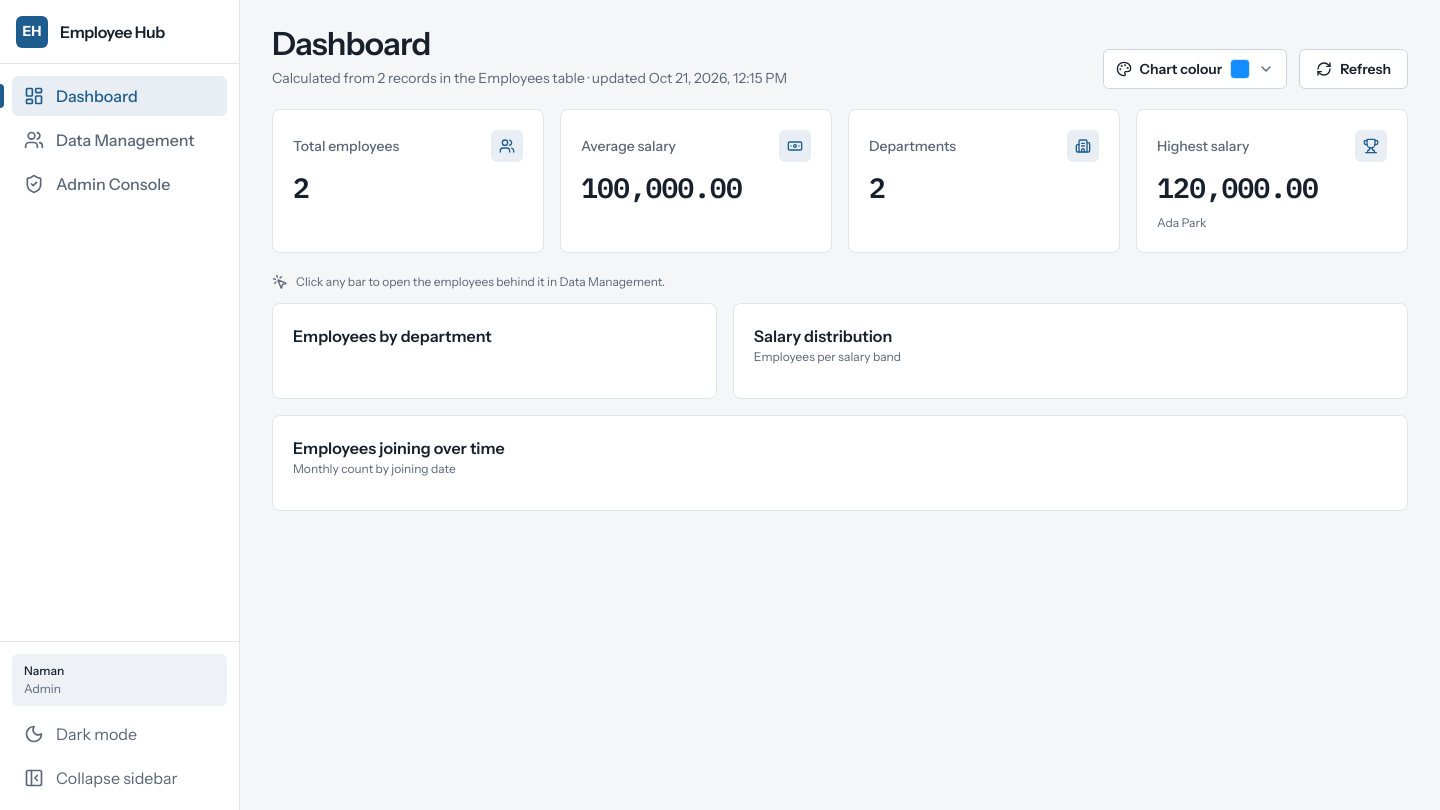
Test case: Dashboard › recalculates after a refresh picks up new rows
Expected: the text "Ada Park" is shown, left=1157, top=215, right=1206, bottom=230
What coordinates should you click on to do the following:
click the button "Refresh"
I would click on:
 (1354, 69)
Its box is left=1299, top=49, right=1408, bottom=89.
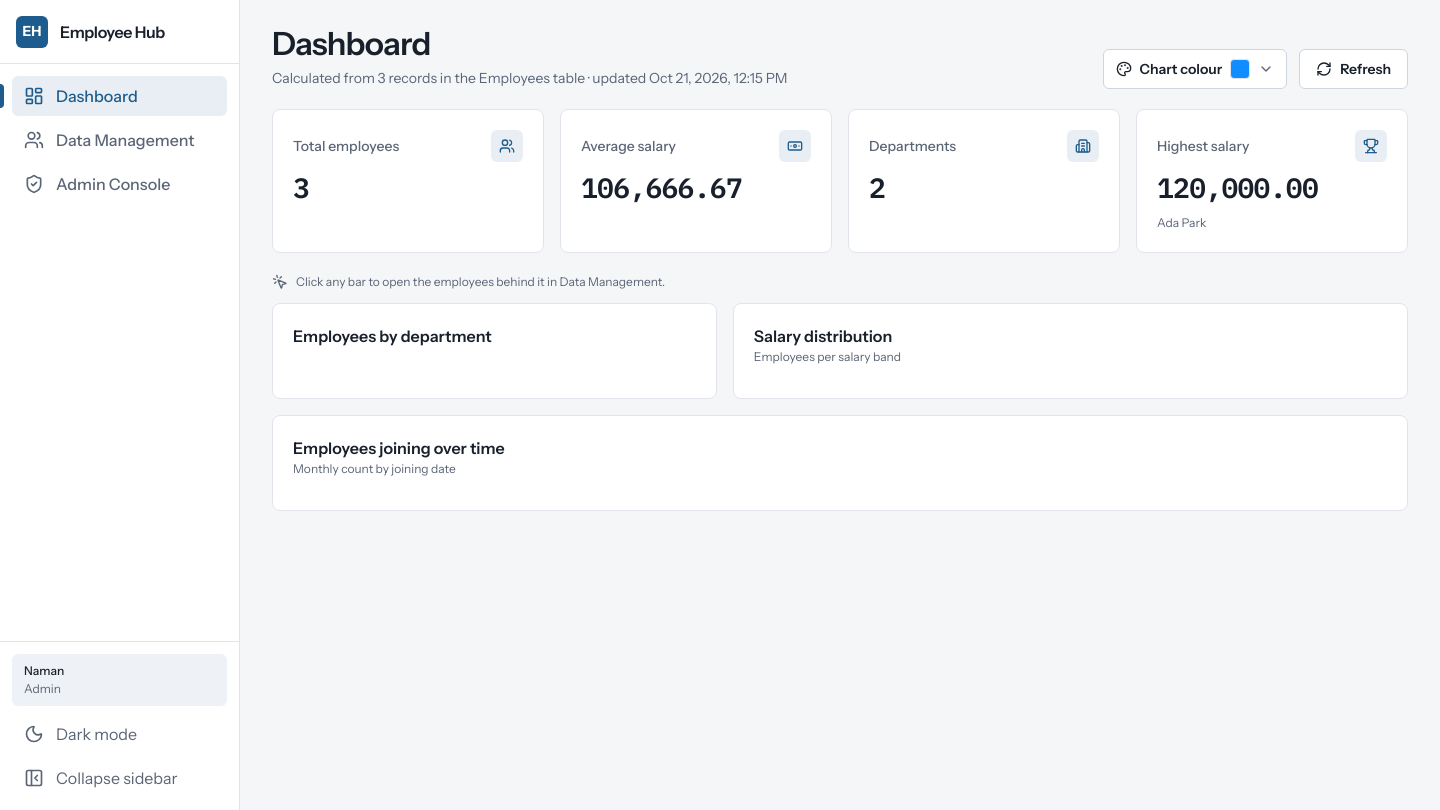
Result: the text "Calculated from 3 records" is shown at left=272, top=69, right=788, bottom=87
